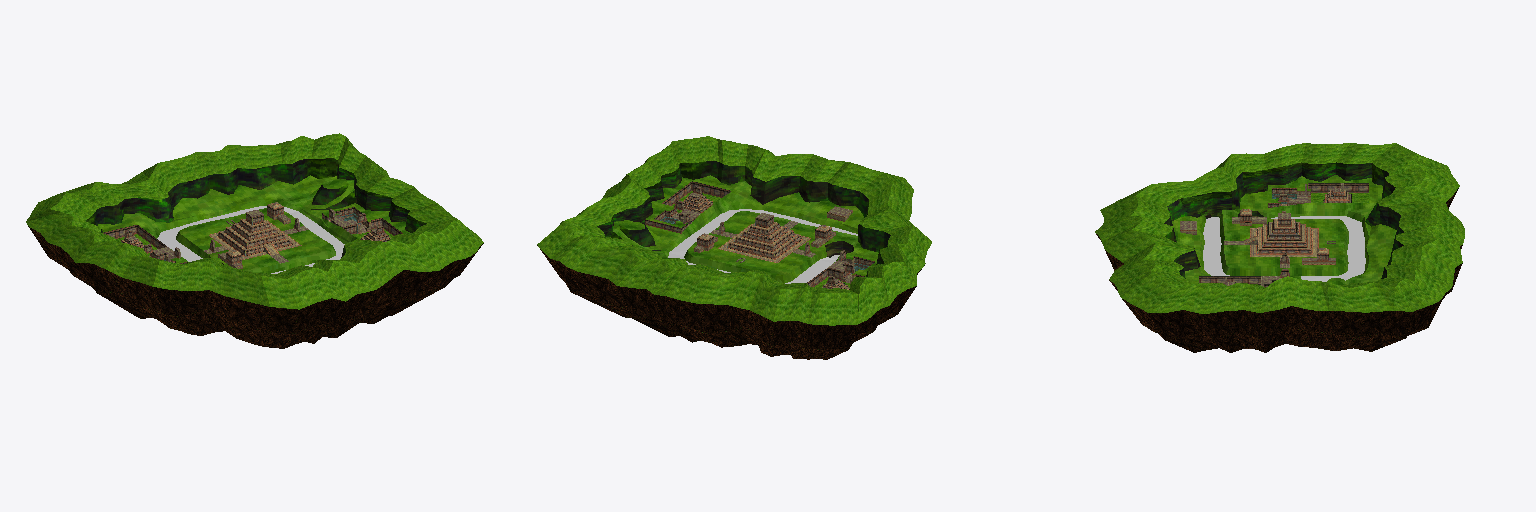
3 views of the same model, side by side, from view 1: azimuth 30°, elevation 25°; view 2: azimuth 150°, elevation 25°; view 3: azimuth 270°, elevation 25° (orthographic).
Parts seen in each view (by area): view 1: MODELS_bin_004:poly000; view 2: MODELS_bin_004:poly000; view 3: MODELS_bin_004:poly000.
Boxes of the visible parts, box(x1,y1,x2,y2) form: MODELS_bin_004:poly000: box(26, 133, 483, 348); MODELS_bin_004:poly000: box(537, 136, 931, 359); MODELS_bin_004:poly000: box(1095, 143, 1464, 352).
Bounding box in the file's own units: 5.25 × 1.36 × 5.12.
Materials: 2 (1 with a texture image).